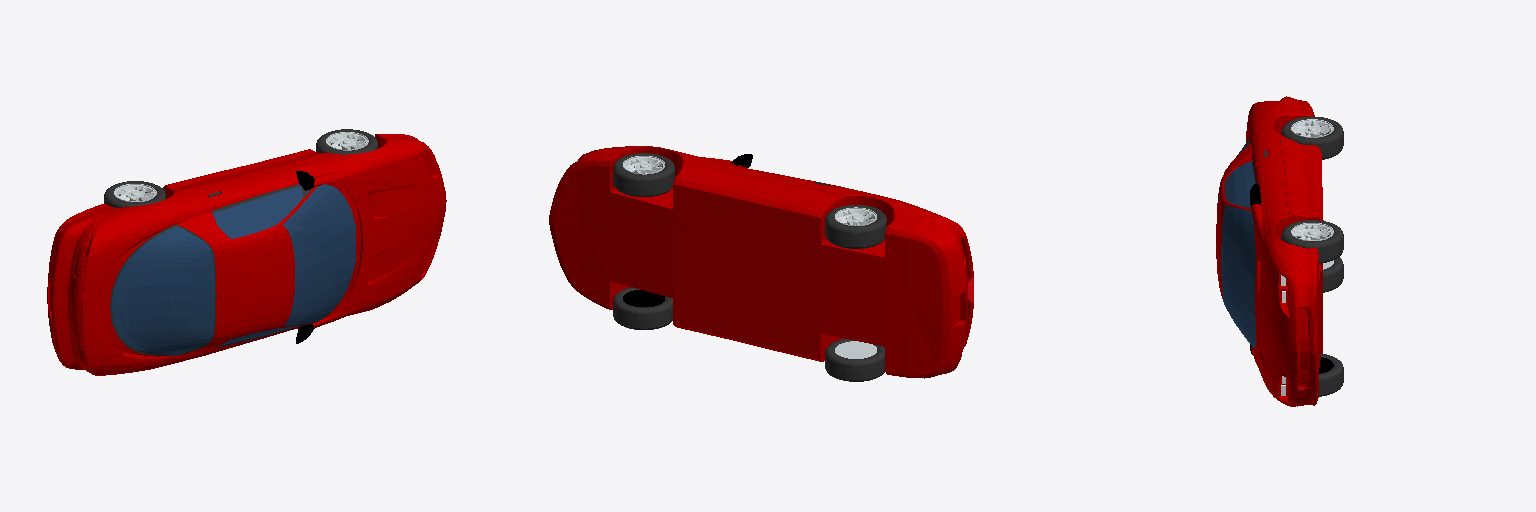
Rendered from camaro.obj.
The picture shows the model from 3 angles: view 1: azimuth 30°, elevation 25°; view 2: azimuth 150°, elevation 25°; view 3: azimuth 270°, elevation 25°; orthographic projection.
Visible parts, largest first — view 1: camaro.001; view 2: camaro.001; view 3: camaro.001.
Boxes of the visible parts, x1=… form: camaro.001: x1=47, y1=129, x2=446, y2=375; camaro.001: x1=549, y1=146, x2=973, y2=381; camaro.001: x1=1216, y1=96, x2=1343, y2=406.
Size of the model in its own units: 68.82 by 28.15 by 18.86.